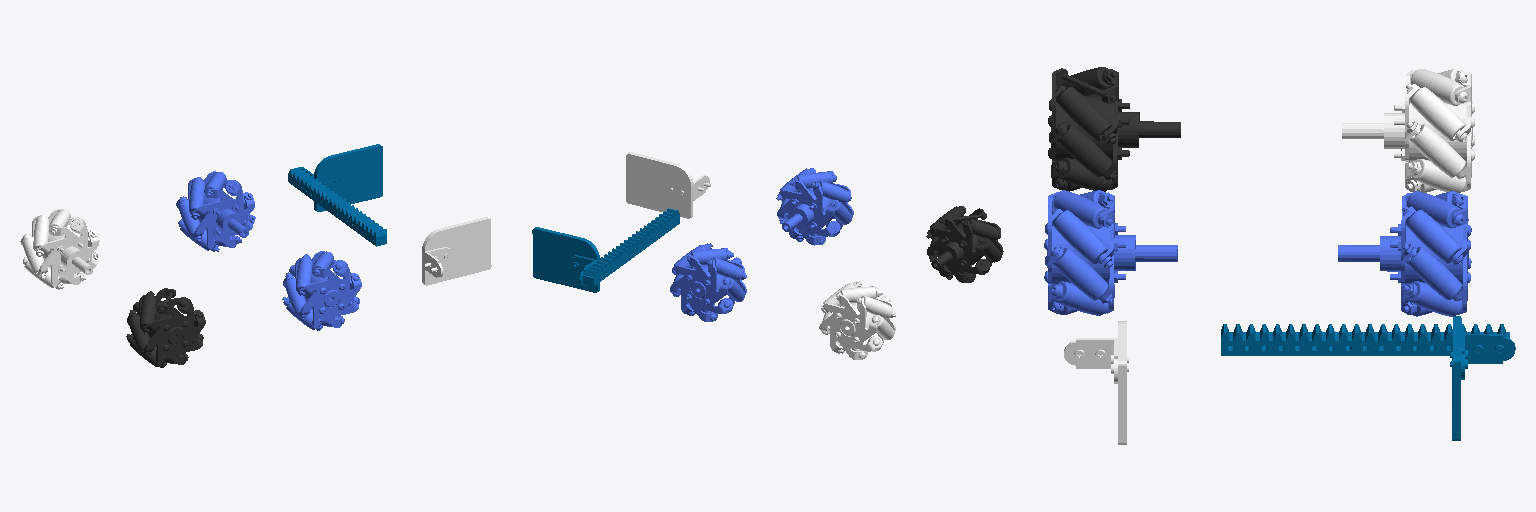
The robot description file, URDF, robot "carbot":
<?xml version="1.0" encoding="utf-8"?>
<!-- This URDF was automatically created by SolidWorks to URDF Exporter! Originally created by Stephen Brawner (brawner@gmail.com) 
     Commit Version: 1.6.0-4-g7f85cfe  Build Version: 1.6.7995.38578
     For more information, please see http://wiki.ros.org/sw_urdf_exporter -->
<robot
  name="carbot">
  <link
    name="base_link">
    <inertial>
      <origin
        xyz="0.018112 0.0026435 0.011468"
        rpy="0 0 0" />
      <mass
        value="0.9342" />
      <inertia
        ixx="0.0048173"
        ixy="0.0005852"
        ixz="0.0006329"
        iyy="0.0068459"
        iyz="0.0002125"
        izz="0.0068460" />
    </inertial>
    <visual>
      <origin
        xyz="0 0 0"
        rpy="0 0 0" />
      <geometry>
        <mesh
          filename="package://carbot/meshes/base_link.STL" />
      </geometry>
      <material
        name="">
        <color
          rgba="1 0 0.50196 1" />
      </material>
    </visual>
    <collision>
      <origin
        xyz="0 0 0"
        rpy="0 0 0" />
      <geometry>
        <mesh
          filename="package://carbot/meshes/base_link.STL" />
      </geometry>
    </collision>
  </link>
  <link
    name="fl_wheel">
    <inertial>
      <origin
        xyz="-6.7075E-06 -0.0013992 -4.389E-05"
        rpy="0 0 0" />
      <mass
        value="0.056644" />
      <inertia
        ixx="0.0000155"
        ixy="0.0000000"
        ixz="0.0000000"
        iyy="0.0000194"
        iyz="0.0000000"
        izz="0.0000155" />
    </inertial>
    <visual>
      <origin
        xyz="0 0 0"
        rpy="0 0 0" />
      <geometry>
        <mesh
          filename="package://carbot/meshes/fl_wheel.STL" />
      </geometry>
      <material
        name="">
        <color
          rgba="0.37255 0.51373 1 1" />
      </material>
    </visual>
    <collision>
      <origin
        xyz="0 0 0"
        rpy="0 0 0" />
      <geometry>
        <mesh
          filename="package://carbot/meshes/fl_wheel.STL" />
      </geometry>
    </collision>
  </link>
  <joint
    name="fl_wheel_joint"
    type="continuous">
    <origin
      xyz="0.070083 0.084087 -0.06589"
      rpy="0 0 0" />
    <parent
      link="base_link" />
    <child
      link="fl_wheel" />
    <axis
      xyz="0.01312 0.99991 0" />
  </joint>
  <link
    name="fr_wheel">
    <inertial>
      <origin
        xyz="0.00074042 0.001388 -0.00018443"
        rpy="0 0 0" />
      <mass
        value="0.056644" />
      <inertia
        ixx="0.0000155"
        ixy="0.0000000"
        ixz="0.0000000"
        iyy="0.0000194"
        iyz="0.0000000"
        izz="0.0000155" />
    </inertial>
    <visual>
      <origin
        xyz="0 0 0"
        rpy="0 0 0" />
      <geometry>
        <mesh
          filename="package://carbot/meshes/fr_wheel.STL" />
      </geometry>
      <material
        name="">
        <color
          rgba="0.37255 0.51373 1 1" />
      </material>
    </visual>
    <collision>
      <origin
        xyz="0 0 0"
        rpy="0 0 0" />
      <geometry>
        <mesh
          filename="package://carbot/meshes/fr_wheel.STL" />
      </geometry>
    </collision>
  </link>
  <joint
    name="fr_wheel_joint"
    type="continuous">
    <origin
      xyz="0.067875 -0.084187 -0.06589"
      rpy="0 0 0" />
    <parent
      link="base_link" />
    <child
      link="fr_wheel" />
    <axis
      xyz="0.01312 0.99991 0" />
  </joint>
  <link
    name="rl_wheel">
    <inertial>
      <origin
        xyz="-2.3965E-05 -0.0014211 -4.1315E-06"
        rpy="0 0 0" />
      <mass
        value="0.056644" />
     <inertia
        ixx="0.0000155"
        ixy="0.0000000"
        ixz="0.0000000"
        iyy="0.0000194"
        iyz="0.0000000"
        izz="0.0000155" />
    </inertial>
    <visual>
      <origin
        xyz="0 0 0"
        rpy="0 0 0" />
      <geometry>
        <mesh
          filename="package://carbot/meshes/rl_wheel.STL" />
      </geometry>
      <material
        name="">
        <color
          rgba="1 1 1 1" />
      </material>
    </visual>
    <collision>
      <origin
        xyz="0 0 0"
        rpy="0 0 0" />
      <geometry>
        <mesh
          filename="package://carbot/meshes/rl_wheel.STL" />
      </geometry>
    </collision>
  </link>
  <joint
    name="rl_wheel_joint"
    type="continuous">
    <origin
      xyz="-0.068925 0.085911 -0.066328"
      rpy="0 0 0" />
    <parent
      link="base_link" />
    <child
      link="rl_wheel" />
    <axis
      xyz="0.01312 0.99991 0" />
  </joint>
  <link
    name="rr_wheel">
    <inertial>
      <origin
        xyz="0.00030618 0.001476 -0.00098591"
        rpy="0 0 0" />
      <mass
        value="0.056644" />
      <inertia
        ixx="0.0000155"
        ixy="0.0000000"
        ixz="0.0000000"
        iyy="0.0000194"
        iyz="0.0000000"
        izz="0.0000155" />
    </inertial>
    <visual>
      <origin
        xyz="0 0 0"
        rpy="0 0 0" />
      <geometry>
        <mesh
          filename="package://carbot/meshes/rr_wheel.STL" />
      </geometry>
      <material
        name="">
        <color
          rgba="0.25098 0.25098 0.25098 1" />
      </material>
    </visual>
    <collision>
      <origin
        xyz="0 0 0"
        rpy="0 0 0" />
      <geometry>
        <mesh
          filename="package://carbot/meshes/rr_wheel.STL" />
      </geometry>
    </collision>
  </link>
  <joint
    name="rr_wheel_joint"
    type="continuous">
    <origin
      xyz="-0.071133 -0.082363 -0.066328"
      rpy="0 0 0" />
    <parent
      link="base_link" />
    <child
      link="rr_wheel" />
    <axis
      xyz="0.01312 0.99991 0" />
  </joint>
  <link
    name="left_jaw">
    <inertial>
      <origin
        xyz="0.01061 -0.019312 0.00031805"
        rpy="0 0 0" />
      <mass
        value="0.026038" />
      <inertia
        ixx="2.1347E-05"
        ixy="-5.307E-08"
        ixz="9.8062E-08"
        iyy="4.9459E-06"
        iyz="3.6333E-09"
        izz="2.2742E-05" />
    </inertial>
    <visual>
      <origin
        xyz="0 0 0"
        rpy="0 0 0" />
      <geometry>
        <mesh
          filename="package://carbot/meshes/left_jaw.STL" />
      </geometry>
      <material
        name="">
        <color
          rgba="0.039216 0.4902 0.7098 1" />
      </material>
    </visual>
    <collision>
      <origin
        xyz="0 0 0"
        rpy="0 0 0" />
      <geometry>
        <mesh
          filename="package://carbot/meshes/left_jaw.STL" />
      </geometry>
    </collision>
  </link>
  <joint
    name="left_jaw_joint"
    type="prismatic">
    <origin
      xyz="0.16546 0.094607 -0.070662"
      rpy="0 0 0" />
    <parent
      link="base_link" />
    <child
      link="left_jaw" />
    <axis
      xyz="0 -1 0" />
    <limit
      lower="0"
      upper="0.1"
      effort="20"
      velocity="15" />
  </joint>
  <link
    name="right_jaw">
    <inertial>
      <origin
        xyz="0.01061 -0.019312 0.00031805"
        rpy="0 0 0" />
      <mass
        value="0.026038" />
      <inertia
        ixx="2.1347E-05"
        ixy="-5.307E-08"
        ixz="9.8062E-08"
        iyy="4.9459E-06"
        iyz="3.6333E-09"
        izz="2.2742E-05" />
    </inertial>
    <visual>
      <origin
        xyz="0 0 0"
        rpy="0 0 0" />
      <geometry>
        <mesh
          filename="package://carbot/meshes/right_jaw.STL" />
      </geometry>
      <material
        name="">
        <color
          rgba="1 1 1 1" />
      </material>
    </visual>
    <collision>
      <origin
        xyz="0 0 0"
        rpy="0 0 0" />
      <geometry>
        <mesh
          filename="package://carbot/meshes/right_jaw.STL" />
      </geometry>
    </collision>
  </link>
  <joint
    name="right_jaw_joint"
    type="prismatic">
    <origin
      xyz="0.17081 -0.064493 -0.070755"
      rpy="0 0 0" />
    <parent
      link="base_link" />
    <child
      link="right_jaw" />
    <axis
      xyz="0 -1 0" />
    <limit
      lower="-0.1"
      upper="0"
      effort="20"
      velocity="15" />
  </joint>
</robot>

--- Render facts (derived) ---
3 views of the same robot in one strip: view 1: azimuth 30°, elevation 25°; view 2: azimuth 150°, elevation 25°; view 3: azimuth 270°, elevation 25° (orthographic).
Model carbot with 7 links and 6 joints (4 continuous, 2 prismatic), rooted at base_link, posed every joint at zero.
Visible links, largest first — view 1: left_jaw, fr_wheel, fl_wheel, rl_wheel, rr_wheel, right_jaw; view 2: left_jaw, fr_wheel, fl_wheel, rl_wheel, rr_wheel, right_jaw; view 3: fr_wheel, fl_wheel, rl_wheel, rr_wheel, left_jaw, right_jaw.
Boxes of the visible links, x1,y1,x2,y2 form: left_jaw: (288, 144, 386, 246); fr_wheel: (282, 251, 361, 330); fl_wheel: (176, 171, 255, 251); rl_wheel: (20, 209, 99, 289); rr_wheel: (126, 288, 205, 367); right_jaw: (422, 217, 491, 285); left_jaw: (532, 208, 679, 292); fr_wheel: (776, 168, 853, 245); fl_wheel: (670, 243, 746, 321); rl_wheel: (819, 281, 895, 359); rr_wheel: (926, 206, 1003, 282); right_jaw: (626, 152, 710, 218); fr_wheel: (1044, 190, 1177, 315); fl_wheel: (1338, 191, 1471, 316); rl_wheel: (1342, 69, 1474, 192); rr_wheel: (1048, 67, 1180, 191); left_jaw: (1221, 316, 1515, 440); right_jaw: (1064, 321, 1128, 444).
Bounding box of the posed robot: 0.3309 × 0.2243 × 0.0584 m (x, y, z).
6 mesh visuals loaded from 7 distinct referenced files (6 binary STL); not drawn: 1 (reference not matched to a file when rendering).
